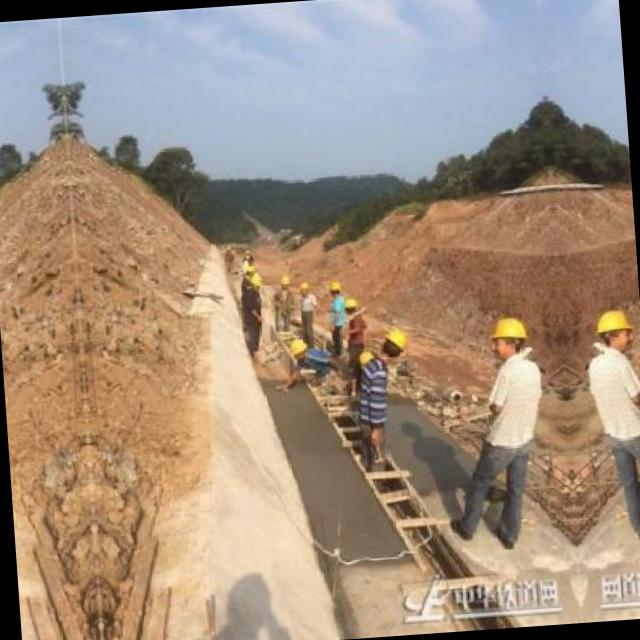helmet: (488, 312, 528, 360), (592, 305, 632, 352), (372, 322, 409, 357), (286, 332, 314, 366), (337, 292, 363, 316), (324, 276, 346, 300), (245, 267, 262, 293), (271, 272, 292, 290), (294, 276, 310, 296)
